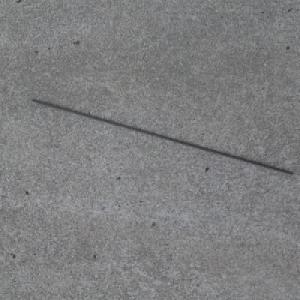LuggagePart: (30, 98, 295, 175)
